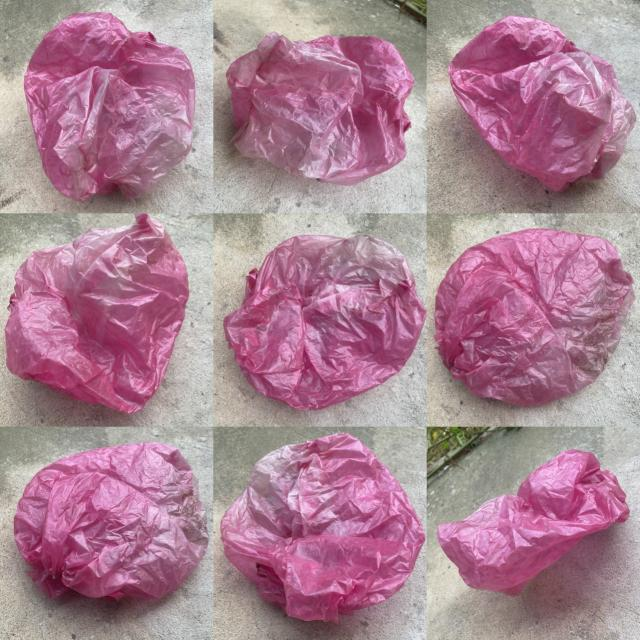Single-layer Plastic: (221, 434, 425, 622), (5, 214, 189, 412), (434, 229, 635, 406), (224, 235, 426, 409), (449, 15, 636, 191), (24, 12, 195, 201), (14, 442, 209, 599), (226, 32, 414, 185), (438, 450, 630, 596)
